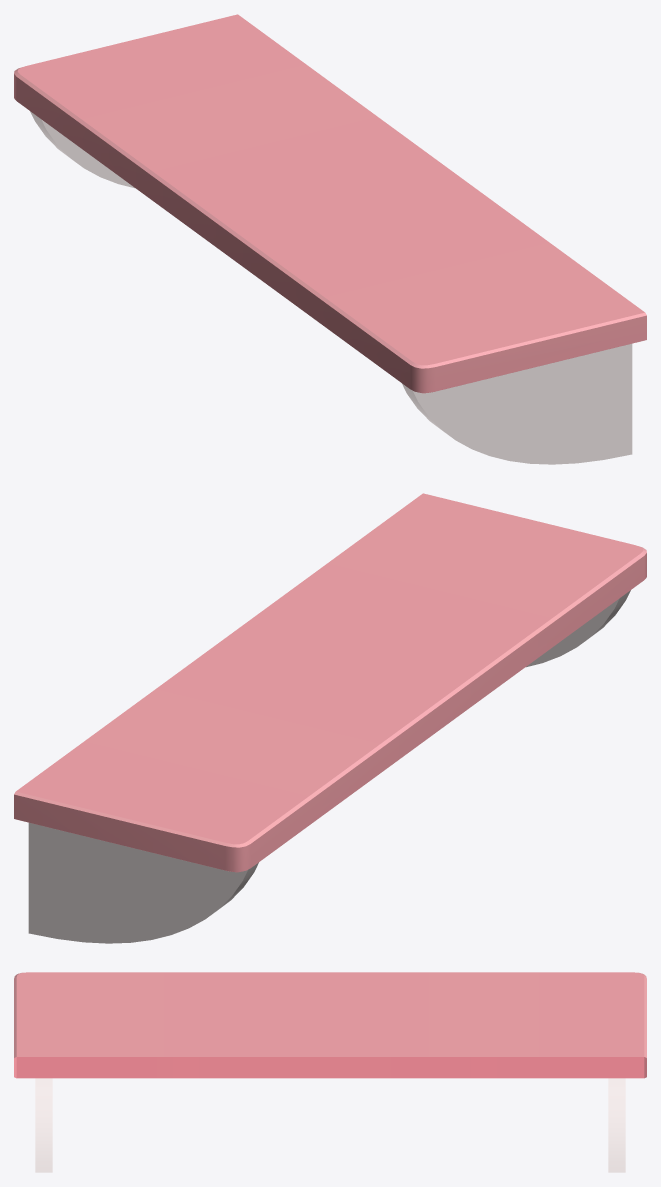
The model's file is Doll_OB_Desk_002.fbx.
3 views of the same model, one above another, from view 1: azimuth 30°, elevation 25°; view 2: azimuth 150°, elevation 25°; view 3: azimuth 270°, elevation 25° (orthographic). The views are drawn at different scales.
Visible parts, largest first — view 1: Doll_OB_Desk_002; view 2: Doll_OB_Desk_002; view 3: Doll_OB_Desk_002.
Boxes of the visible parts, x1,y1,x2,y2 form: Doll_OB_Desk_002: (14,14,646,464); Doll_OB_Desk_002: (14,493,646,943); Doll_OB_Desk_002: (14,972,646,1172).
Size of the model in its own units: 28.87 by 18.2 by 90.04.
1 material, 1 textured.
